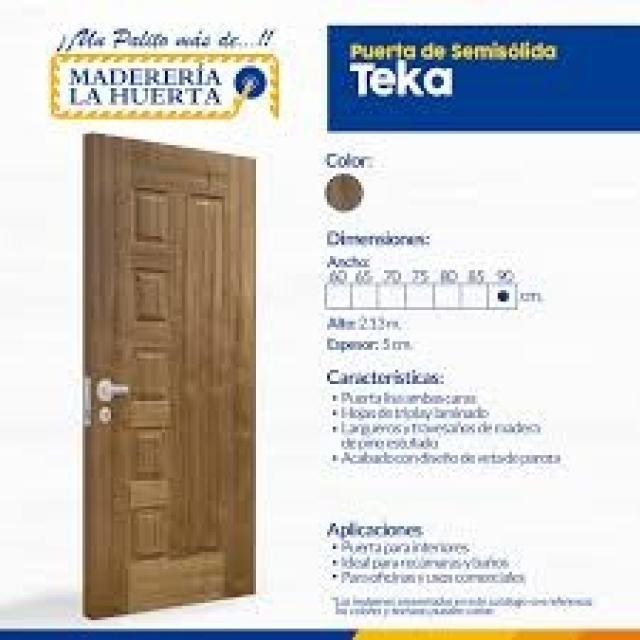door: (80, 131, 258, 620)
